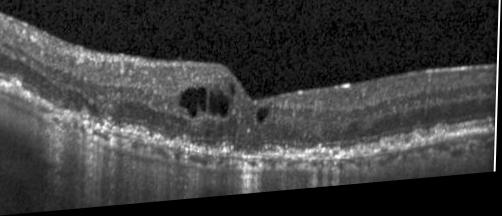intraretinal_cyst: (180, 91, 208, 121), (210, 95, 230, 122), (257, 113, 270, 128), (231, 90, 235, 99)
subretinal_hyperreflective_material: (64, 113, 455, 165)
